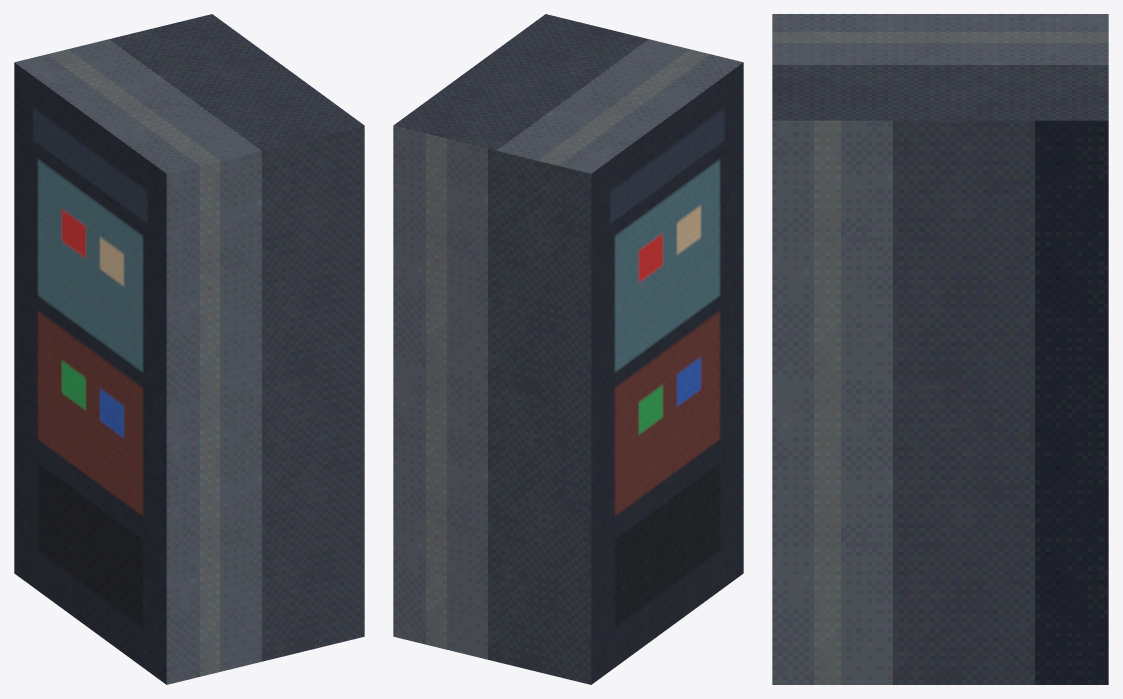
File: lot_vending.glb
The picture shows the model from 3 angles, left to right: view 1: azimuth 30°, elevation 25°; view 2: azimuth 150°, elevation 25°; view 3: azimuth 270°, elevation 25°; orthographic projection. The views are drawn at different scales.
Parts seen in each view (by area): view 1: lot_vending; view 2: lot_vending; view 3: lot_vending.
Boxes of the visible parts, x1,y1,x2,y2 form: lot_vending: (14,14,364,684); lot_vending: (393,14,743,684); lot_vending: (772,14,1108,684).
Bounding box in the file's own units: 0.75 × 1.85 × 1.
Materials: 2 (2 with a texture image).
